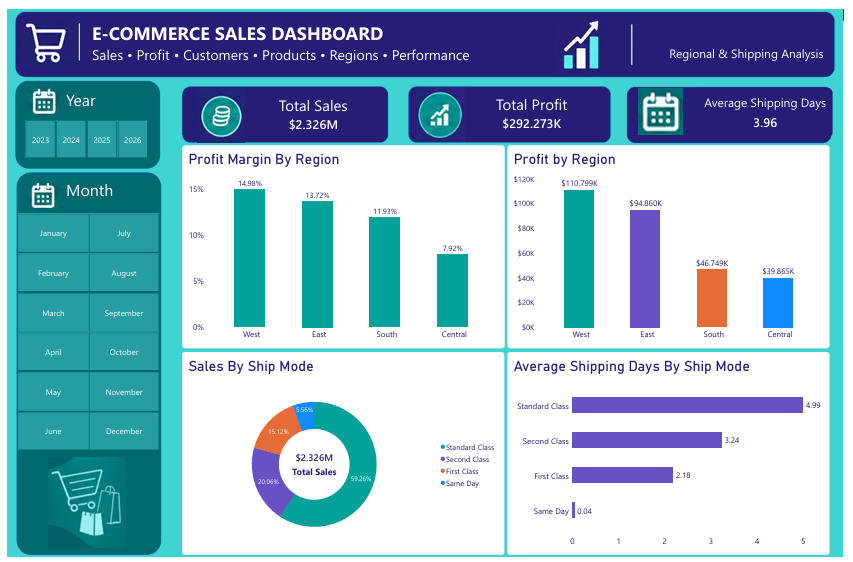

Layout of this report page (visuals, bound fields, positions):
{"tool":"powerbi","page":{"name":"Regional & Shipping Analysis","canvas":[2231,1460],"ordinal":3},"visuals":[{"type":"shape","box":[19.8,6.6,2186.8,174.8],"z":0},{"type":"image","box":[39.6,29.7,141.8,128.6],"z":1000},{"type":"group","id":"g1","title":"Group 2","box":[1059.3,206.1,550,150.2],"z":1000,"group":"g3"},{"type":"image","box":[178.1,23.1,23.1,118.7],"z":2000},{"type":"textbox","box":[224.3,29.7,949.9,92.4],"z":3000},{"type":"group","id":"g2","title":"Group 1","box":[465.4,206.6,550.8,151.7],"z":3000,"group":"g3"},{"type":"textbox","box":[224.3,95.6,1154.4,79.2],"z":4000},{"type":"image","box":[1447.9,26.4,155,145.1],"z":5000},{"type":"image","box":[1652.4,23.1,23.1,131.9],"z":6000},{"type":"textbox","box":[1764.6,95.6,465.1,66],"z":7000},{"type":"shape","box":[19.8,191.3,385.9,234.2],"z":8000},{"type":"shape","box":[1652.5,206.8,545.8,150],"z":8000,"group":"g4"},{"type":"image","box":[46.2,201.2,89.1,89.1],"z":9000},{"type":"shape","box":[1069.2,206.1,540.1,150.2],"z":9000,"group":"g1"},{"type":"textbox","box":[155,211.1,115.4,98.9],"z":10000},{"type":"shape","box":[465.4,206.6,550,150.2],"z":11000,"group":"g2"},{"type":"slicer","fields":{"Values":["ecommerce_analytics ecommerce_sales.Order_Year"]},"box":[26.4,293.5,366.1,105.5],"z":11000},{"type":"cardVisual","fields":{"Data":["ecommerce_analytics ecommerce_sales.Average Shipping Days"]},"box":[1842.7,209.1,359.8,134.5],"z":12000,"group":"g4"},{"type":"shape","box":[23.1,435.4,385.9,1019.2],"z":12000},{"type":"image","box":[1059.3,208.9,194.3,144.6],"z":13000,"group":"g1"},{"type":"image","box":[42.9,451.9,89.1,89.1],"z":13000},{"type":"textbox","box":[155,451.9,191.3,98.9],"z":14000},{"type":"cardVisual","fields":{"Data":["ecommerce_analytics ecommerce_sales.Total Profit"]},"box":[1227.3,214.6,342.5,121.9],"z":15000,"group":"g1"},{"type":"slicer","fields":{"Values":["ecommerce_analytics ecommerce_sales.Order_Month_Name"]},"box":[6.6,544.2,415.6,633.3],"z":15000},{"type":"cardVisual","fields":{"Data":["ecommerce_analytics ecommerce_sales.Total Sales"]},"box":[646.5,209.4,338.7,141.7],"z":16000,"group":"g2"},{"type":"image","box":[49.5,1194,323.2,240.8],"z":16000},{"type":"group","id":"g3","title":"Group 4","box":[465.4,206.1,1737.1,152.2],"z":17000},{"type":"image","box":[492.2,212.3,154.3,144.6],"z":17000,"group":"g2"},{"type":"clusteredColumnChart","title":"Profit Margin By Region","fields":{"Category":["ecommerce_analytics ecommerce_sales.Region"],"Y":["ecommerce_analytics ecommerce_sales.Profit Margin"]},"box":[465.1,362.8,860.8,540.9],"z":18000},{"type":"group","id":"g4","title":"Group 3","box":[1652.5,206.8,550,150],"z":19000,"group":"g3"},{"type":"clusteredColumnChart","title":"Profit by Region","fields":{"Category":["ecommerce_analytics ecommerce_sales.Region"],"Y":["ecommerce_analytics ecommerce_sales.Total Profit"]},"box":[1332.5,362.8,860.8,540.9],"z":19000},{"type":"donutChart","title":"Sales By Ship Mode","fields":{"Category":["ecommerce_analytics ecommerce_sales.Ship_Mode"],"Y":["ecommerce_analytics ecommerce_sales.Total Sales"]},"box":[465.1,913.6,860,540.9],"z":20000},{"type":"clusteredBarChart","title":"Average Shipping Days By Ship Mode","fields":{"Y":["ecommerce_analytics ecommerce_sales.Average Shipping Days"],"Category":["ecommerce_analytics ecommerce_sales.Ship_Mode"]},"box":[1332.5,913.6,860.8,540.9],"z":21000},{"type":"image","box":[1675.5,211.1,135.2,125.3],"z":22001}]}

Visuals, with their boxes in screenshot pixels (x1, y1, x2, y2), scaled from the page's 2231x1460 canvas onto the 853x562 screenshot:
shape: l=8, t=3, r=844, b=70
image: l=15, t=11, r=69, b=61
"Group 2" group: l=405, t=79, r=615, b=137
image: l=68, t=9, r=77, b=55
textbox: l=86, t=11, r=449, b=47
"Group 1" group: l=178, t=80, r=389, b=138
textbox: l=86, t=37, r=527, b=67
image: l=554, t=10, r=613, b=66
image: l=632, t=9, r=641, b=60
textbox: l=675, t=37, r=852, b=62
shape: l=8, t=74, r=155, b=164
shape: l=632, t=80, r=840, b=137
image: l=18, t=77, r=52, b=112
shape: l=409, t=79, r=615, b=137
textbox: l=59, t=81, r=103, b=119
shape: l=178, t=80, r=388, b=137
slicer - ecommerce_analytics ecommerce_sales.Order_Year: l=10, t=113, r=150, b=154
cardVisual - ecommerce_analytics ecommerce_sales.Average Shipping Days: l=705, t=80, r=842, b=132
shape: l=9, t=168, r=156, b=560
image: l=405, t=80, r=479, b=136
image: l=16, t=174, r=50, b=208
textbox: l=59, t=174, r=132, b=212
cardVisual - ecommerce_analytics ecommerce_sales.Total Profit: l=469, t=83, r=600, b=130
slicer - ecommerce_analytics ecommerce_sales.Order_Month_Name: l=3, t=209, r=161, b=453
cardVisual - ecommerce_analytics ecommerce_sales.Total Sales: l=247, t=81, r=377, b=135
image: l=19, t=460, r=142, b=552
"Group 4" group: l=178, t=79, r=842, b=138
image: l=188, t=82, r=247, b=137
"Profit Margin By Region" clusteredColumnChart: l=178, t=140, r=507, b=348
"Group 3" group: l=632, t=80, r=842, b=137
"Profit by Region" clusteredColumnChart: l=509, t=140, r=839, b=348
"Sales By Ship Mode" donutChart: l=178, t=352, r=507, b=560
"Average Shipping Days By Ship Mode" clusteredBarChart: l=509, t=352, r=839, b=560
image: l=641, t=81, r=692, b=129
